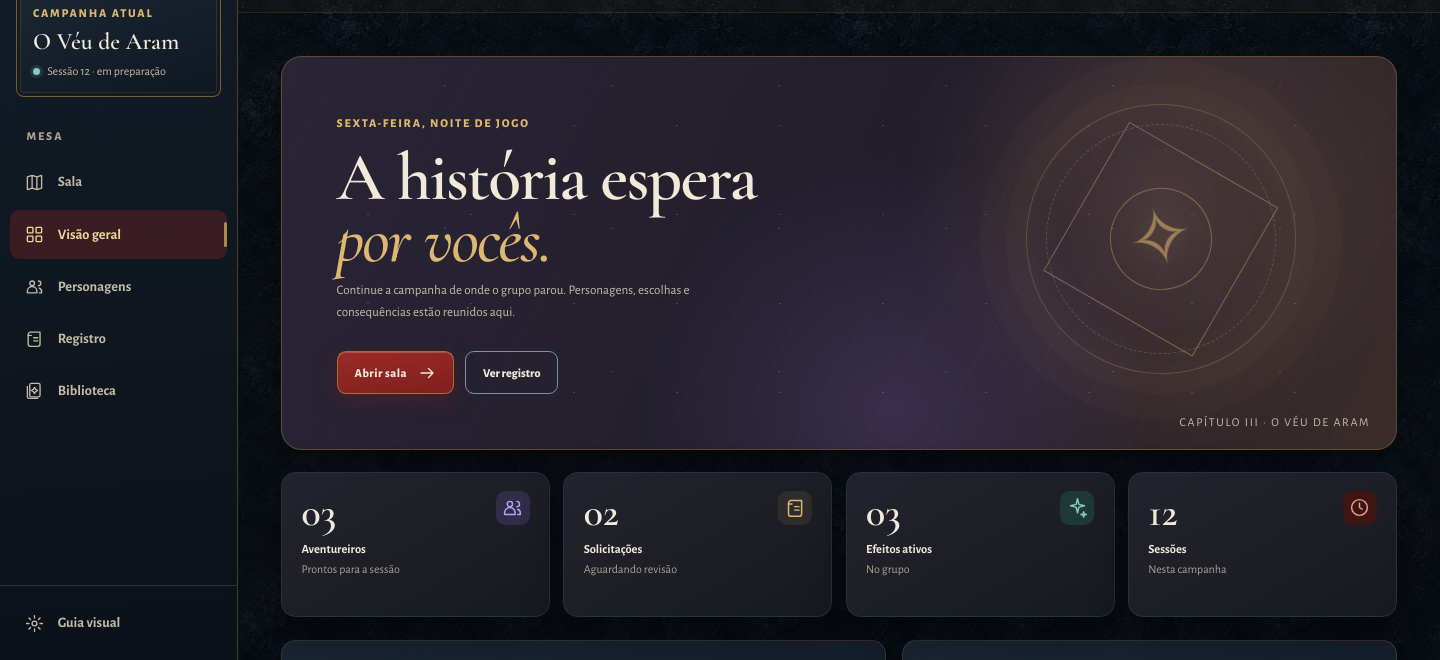
Scenario: prévia navegável › mostra o painel do Narrador e abre a ficha pelo menu
Expected: the heading "A história espera" is shown, [337, 146, 756, 270]
Step 1. Click the button "Personagens" → coordinates (118, 287), box [10, 262, 227, 311]
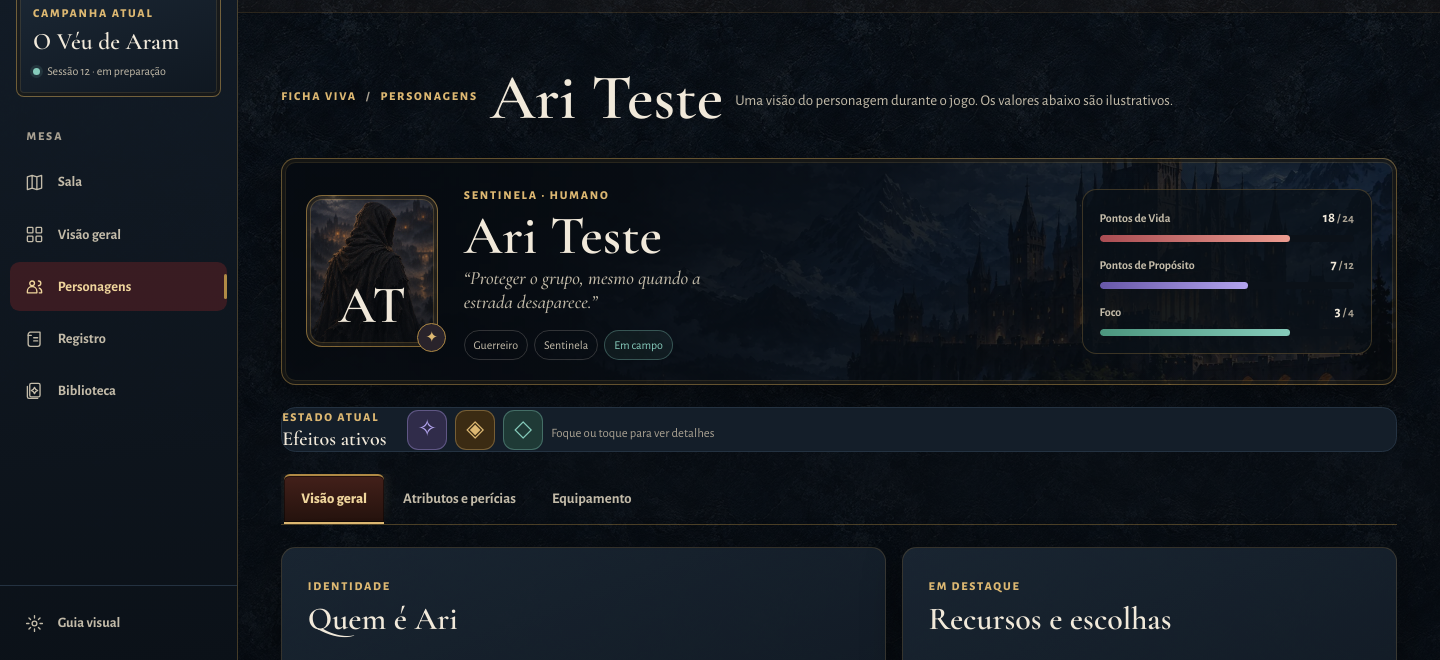
Expected: the heading "Ari Teste" in the row of "FICHA VIVA" is shown, [490, 66, 723, 130]
Step 2. Click the tab "Equipamento" → coordinates (592, 499), box [535, 474, 648, 524]
(page scrolled)
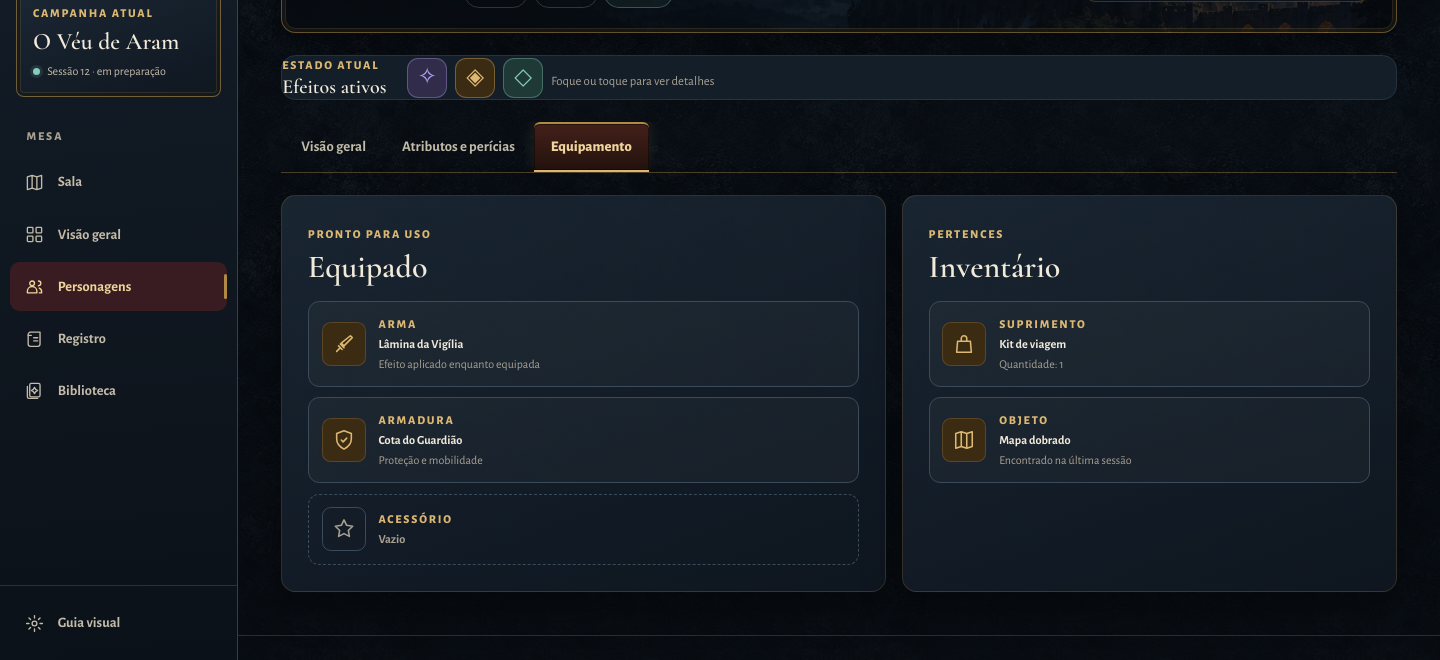
Expected: the text "Lâmina da Vigília" is shown, [378, 338, 464, 350]
